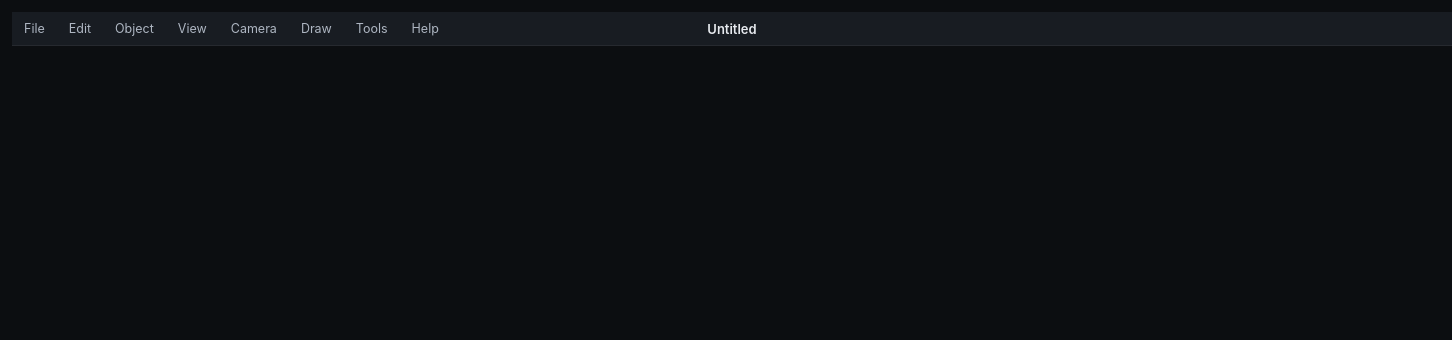
Test: MenuBar › shows a checkmark next to Model Info when showModelInfo=true
This screenshot has width=1452, height=340.
Click the button "View".
click(192, 28)  # box left=166, top=12, right=219, bottom=45
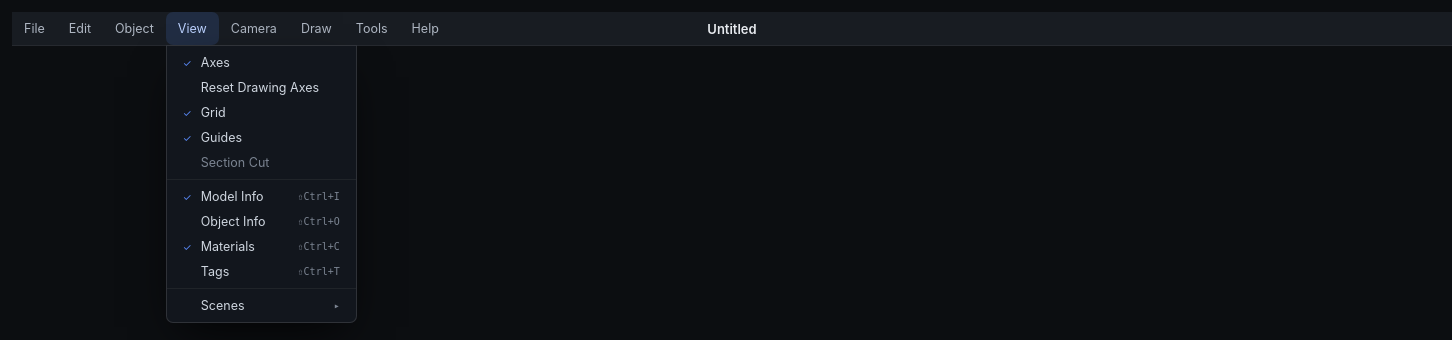
Result: the text "Model Info" shows "✓" at left=183, top=190, right=192, bottom=202
